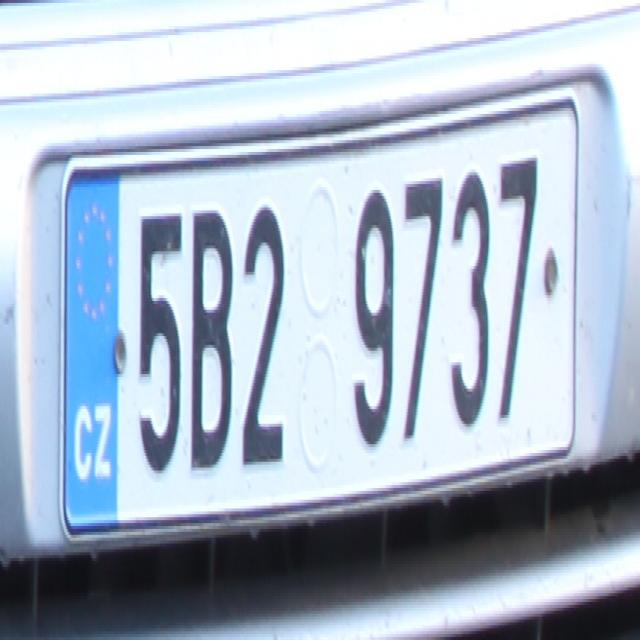2: (238, 193, 285, 470)
3: (448, 166, 490, 432)
5: (134, 205, 182, 468)
7: (399, 166, 442, 462), (497, 143, 539, 433)
9: (353, 187, 394, 450)
B: (186, 202, 234, 470)
